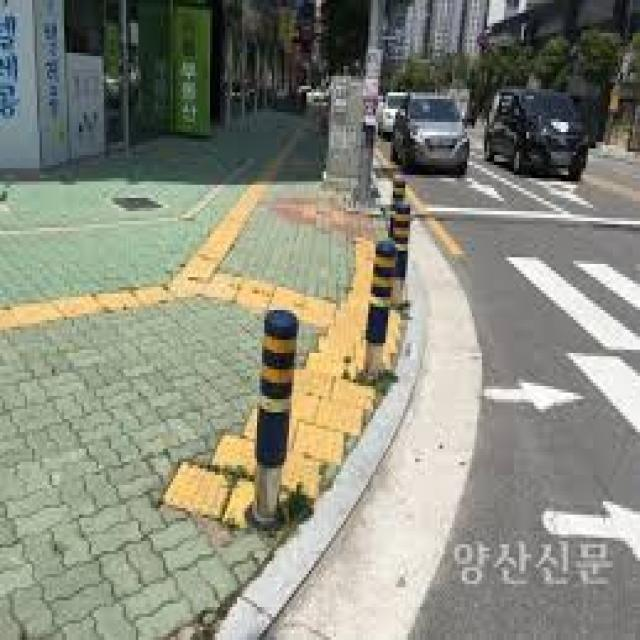bollard: (244, 295, 301, 532), (358, 230, 392, 390), (386, 196, 412, 346), (389, 160, 409, 211)
